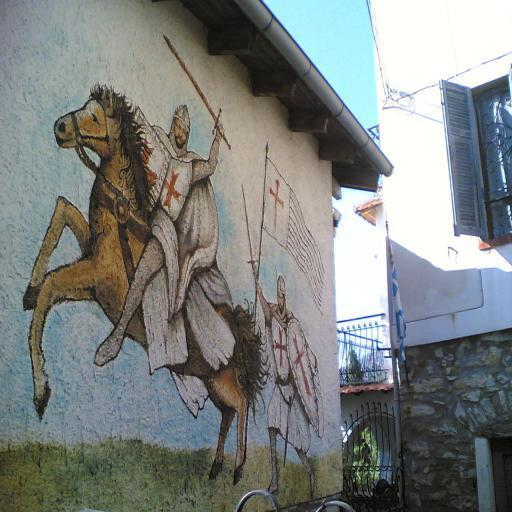horse: (22, 82, 274, 488)
